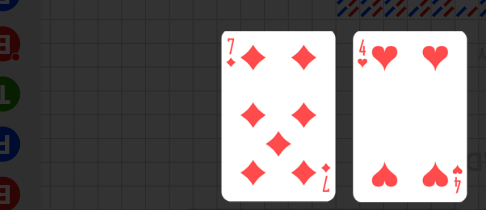4H: (451, 162, 464, 194)
7D: (225, 36, 237, 68)
